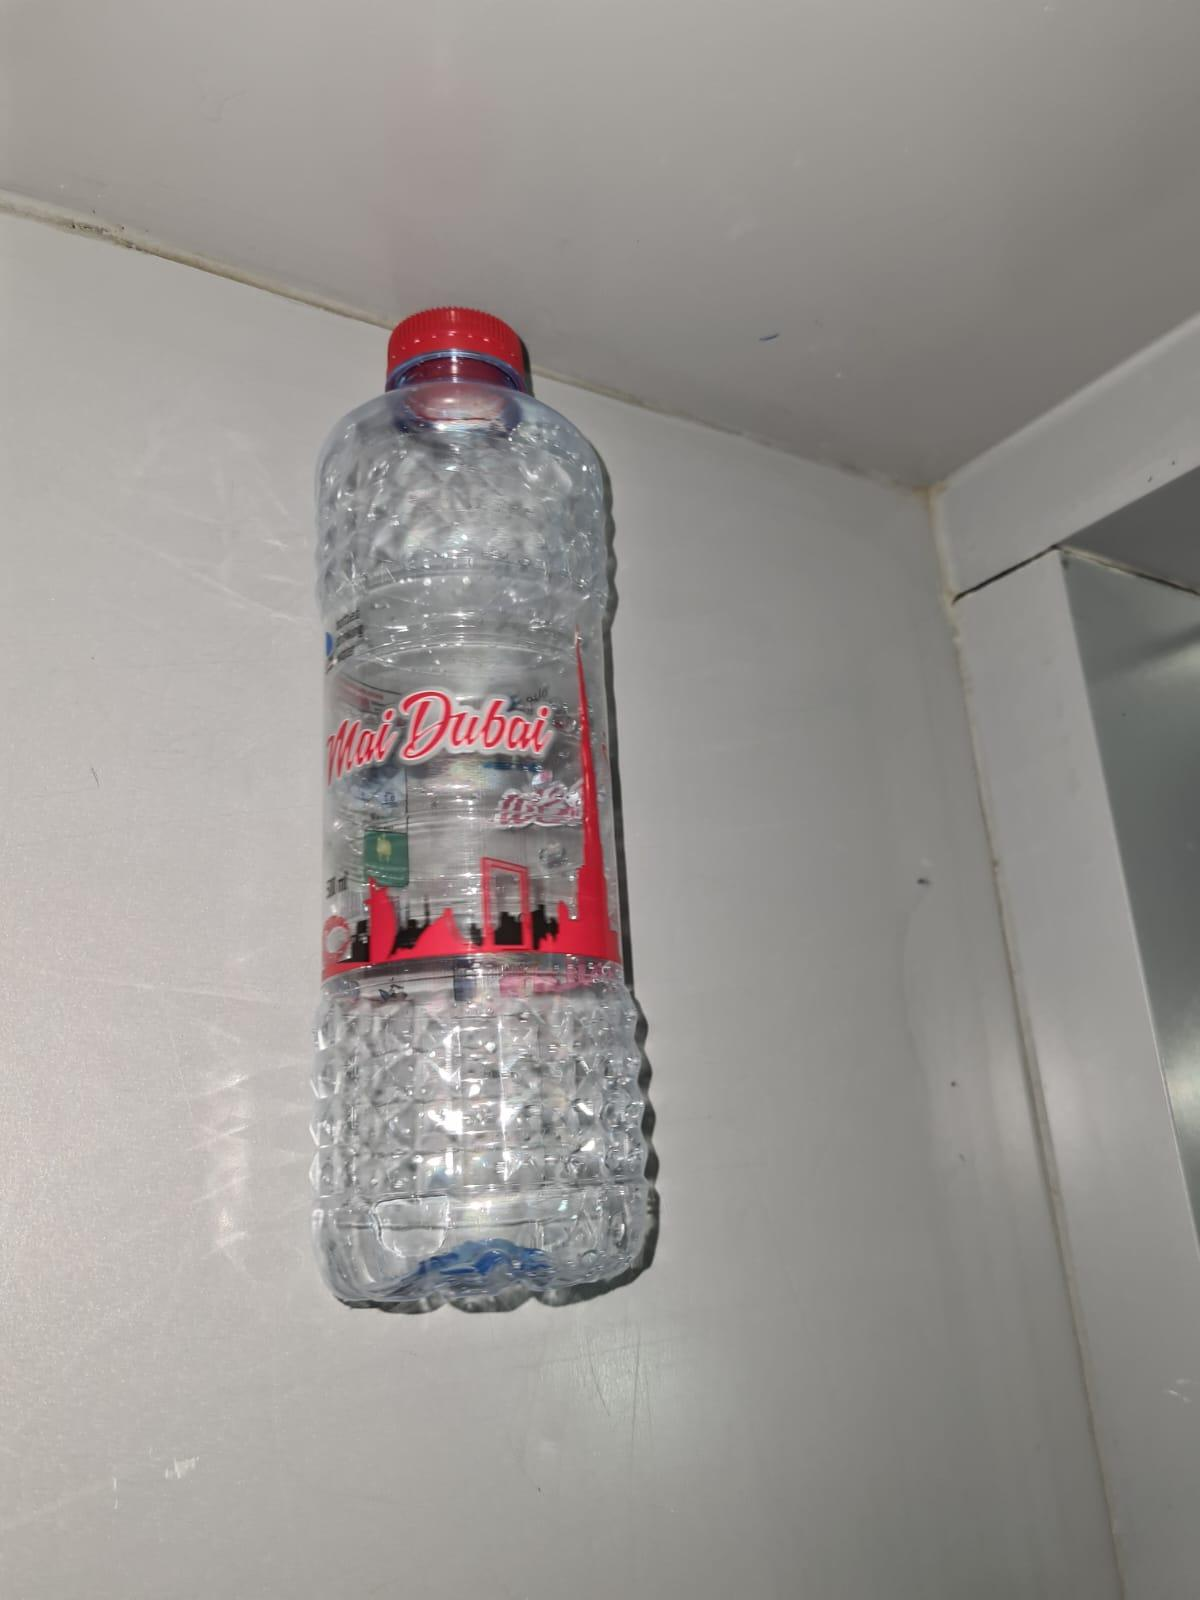bottle: (308, 301, 667, 1314)
